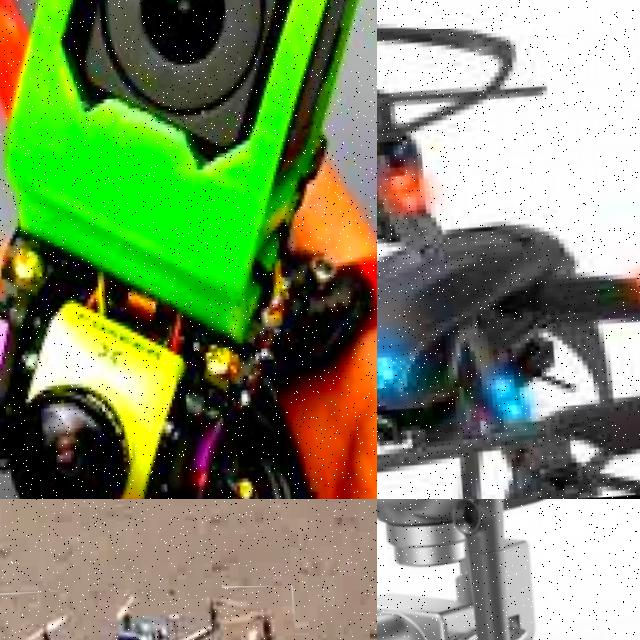drone: (0, 0, 377, 499), (377, 21, 640, 499), (377, 499, 640, 640), (0, 586, 297, 640)
